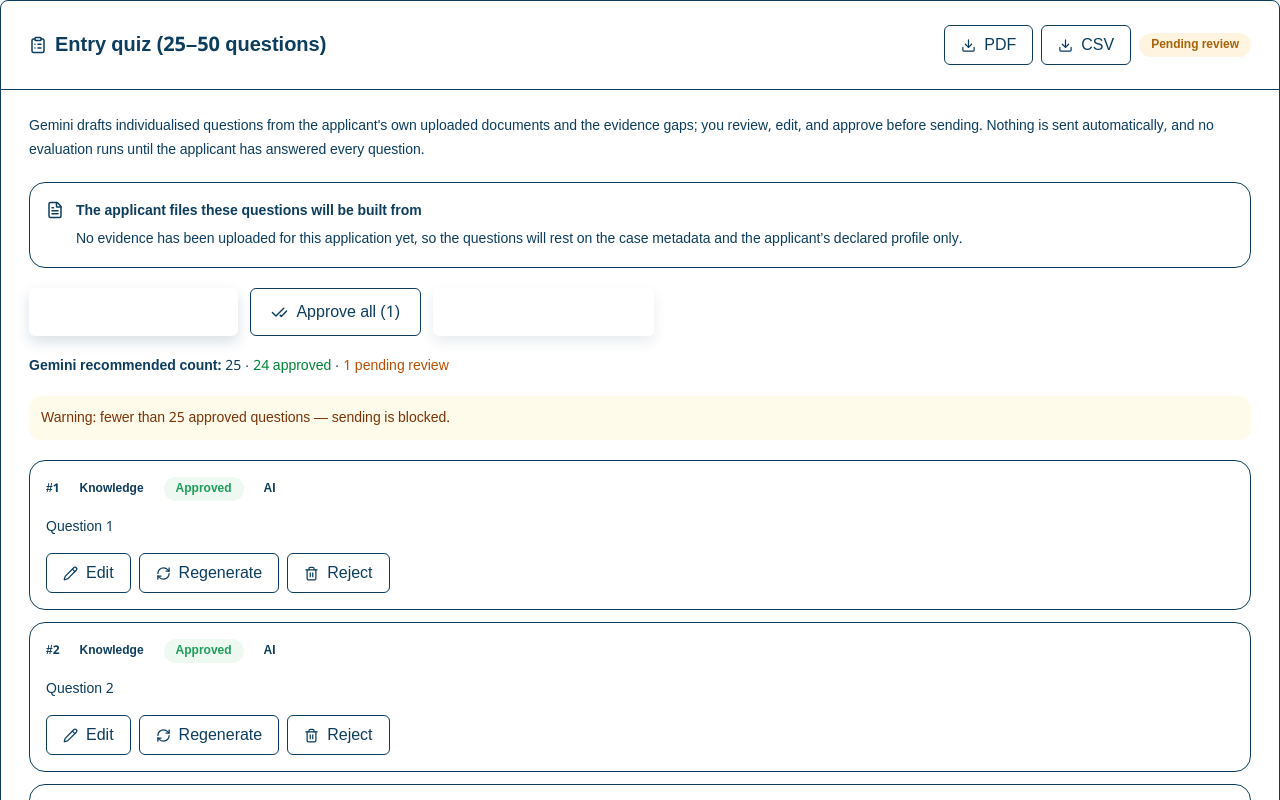
Test: a generation the server is running › a generate answered 202 is followed by the set, which shows the queued run
Click the button "Regenerate full draft". click: click(134, 312)
box: [29,288,238,336]
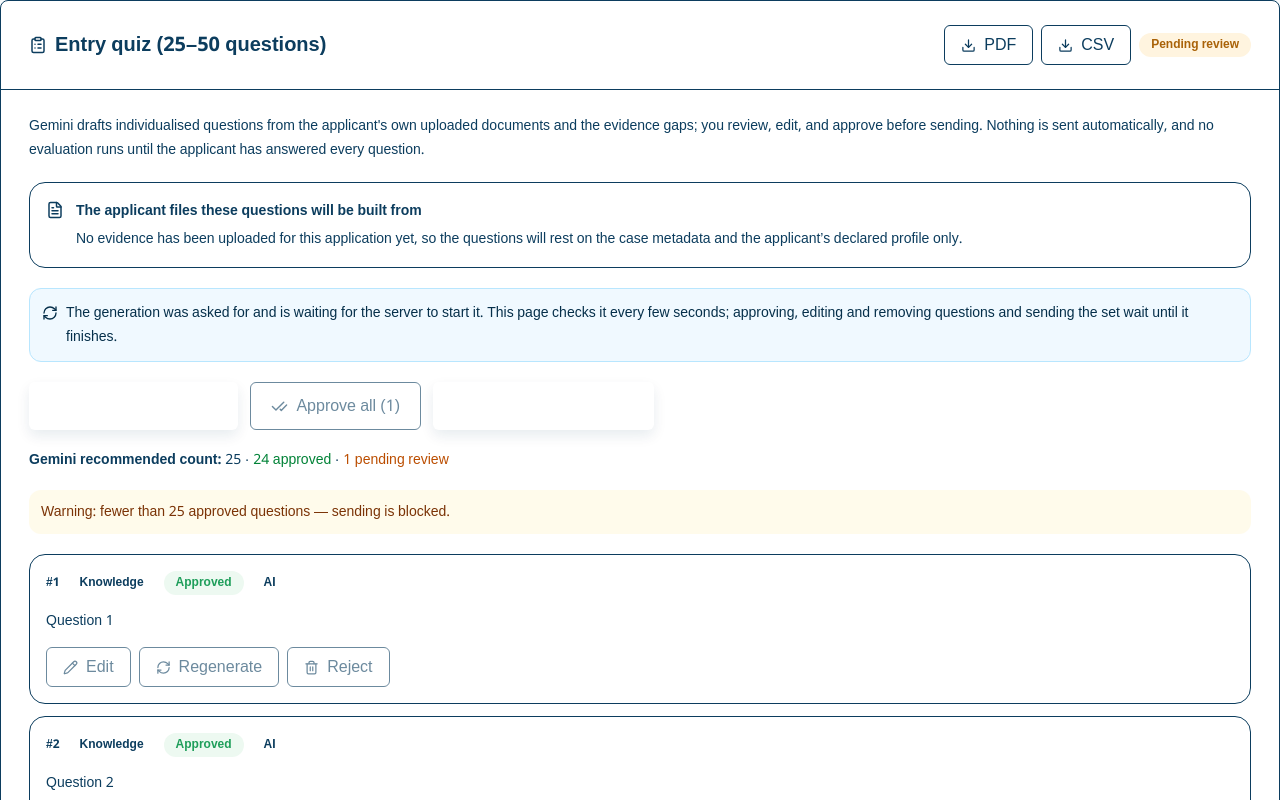
Expected: the message shows "The generation was asked for and is waiting for the server to start it. This page checks it every few seconds; approving, editing and removing questions and sen", [66,298,1188,351]
Expected: the button "Approve all (1)" is disabled, [250,382,421,430]
